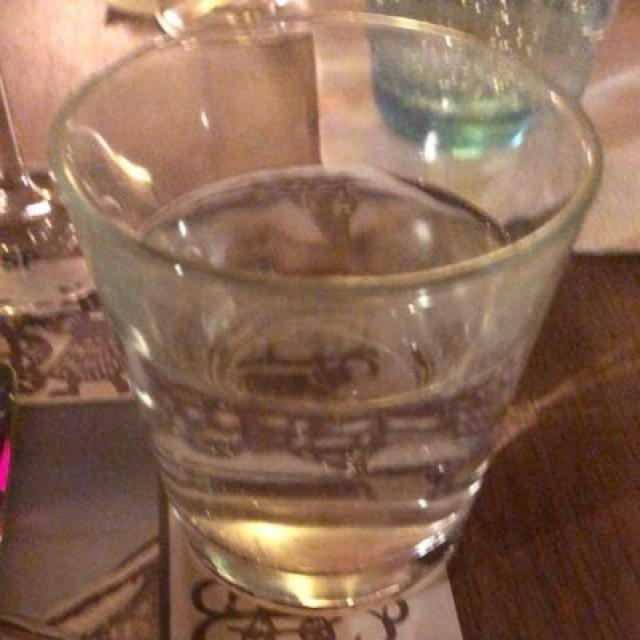water: (122, 129, 532, 625)
